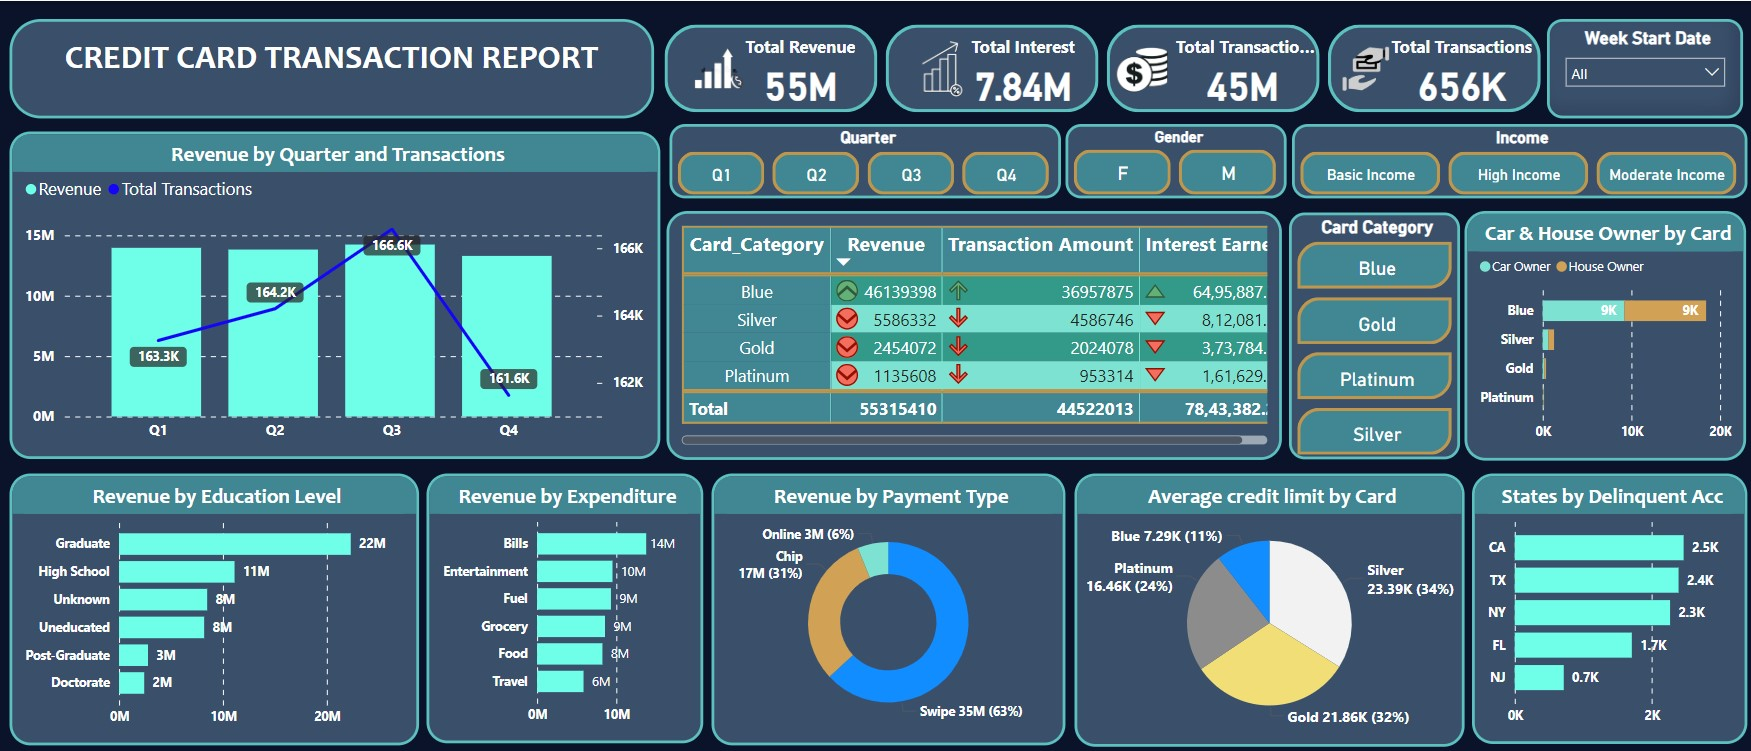

What the dashboard file says about the page in this screenshot:
{"tool":"powerbi","page":{"name":"Credit Card Transaction Report","canvas":[1680,720],"ordinal":1},"visuals":[{"type":"textbox","box":[10.3,16.5,618.1,95],"z":0},{"type":"lineStackedColumnComboChart","title":"Revenue by Quarter and Transactions","fields":{"Category":["credit_card cc_detail.Qtr"],"Y":["Sum(credit_card cc_detail.Revenue)"],"Y2":["Sum(credit_card cc_detail.Total_Trans_Vol)"]},"box":[10.3,125.5,624.3,314.2],"z":1000},{"type":"barChart","title":"Revenue by Expenditure ","fields":{"Y":["Sum(credit_card cc_detail.Revenue)"],"Category":["credit_card cc_detail.Exp_Type"]},"box":[410.5,452.7,265,258.8],"z":2000},{"type":"barChart","title":"Revenue by Education Level","fields":{"Y":["Sum(credit_card cc_detail.Revenue)"],"Category":["credit_card cust_detail.Education_Level"]},"box":[10.1,452.7,392.4,260.5],"z":3000},{"type":"pieChart","title":"Average credit limit by Card","fields":{"Category":["credit_card cc_detail.Card_Category"],"Y":["Avg(credit_card cc_detail.Credit_Limit)"]},"box":[1030.5,452.7,373.8,262.1],"z":4000},{"type":"donutChart","title":"Revenue by Payment Type","fields":{"Category":["credit_card cc_detail.Use_Chip"],"Y":["Sum(credit_card cc_detail.Revenue)"]},"box":[683.5,452.7,339,260.5],"z":5000},{"type":"tableEx","fields":{"Values":["credit_card cc_detail.Card_Category","Sum(credit_card cc_detail.Revenue)","Sum(credit_card cc_detail.Total_Trans_Amt)","Sum(credit_card cc_detail.Interest_Earned)"]},"box":[640.2,201.3,590.3,238.5],"z":6000},{"type":"slicer","title":"Week Start Date","fields":{"Values":["credit_card cc_detail.Week_Start_Date"]},"box":[1484.3,16.5,188.1,95.1],"z":7000},{"type":"advancedSlicerVisual","title":"Quarter","fields":{"Values":["credit_card cc_detail.Qtr"]},"box":[642.7,118,375.5,71],"z":8000},{"type":"advancedSlicerVisual","title":"Card Category","fields":{"Values":["credit_card cc_detail.Card_Category"]},"box":[1236.3,203,164.1,236.8],"z":9000},{"type":"advancedSlicerVisual","title":"Income","fields":{"Values":["credit_card cust_detail.IncomeGroup"]},"box":[1239.7,118,436.4,71],"z":10000},{"type":"barChart","title":"States by Delinquent Acc ","fields":{"Category":["credit_card cust_detail.State_cd"],"Y":["CountNonNull(credit_card cc_detail.Delinquent_Acc)"]},"box":[1411.6,453.3,263.8,259],"z":11000},{"type":"barChart","title":" Car & House Owner by Card","fields":{"Y":["CountNonNull(credit_card cust_detail.Car_Owner)","CountNonNull(credit_card cust_detail.House_Owner)"],"Category":["credit_card cc_detail.Card_Category"]},"box":[1405.5,200.7,270,239],"z":12000},{"type":"advancedSlicerVisual","title":"Gender","fields":{"Values":["credit_card cust_detail.Gender"]},"box":[1021.9,118,211.9,71],"z":13000},{"type":"cardVisual","fields":{"Data":["Sum(credit_card cc_detail.Revenue)","Sum(credit_card cc_detail.Interest_Earned)","Sum(credit_card cc_detail.Total_Trans_Amt)","Sum(credit_card cc_detail.Total_Trans_Vol)"]},"box":[633,16.9,850.7,94.7],"z":14000}]}

Visuals, with their boxes in screenshot pixels (x1, y1, x2, y2), scaled from the page's 1680x720 canvas onto the 1751x751 screenshot:
textbox: {"x1": 11, "y1": 17, "x2": 655, "y2": 116}
"Revenue by Quarter and Transactions" lineStackedColumnComboChart: {"x1": 11, "y1": 131, "x2": 661, "y2": 459}
"Revenue by Expenditure " barChart: {"x1": 428, "y1": 472, "x2": 704, "y2": 742}
"Revenue by Education Level" barChart: {"x1": 11, "y1": 472, "x2": 420, "y2": 744}
"Average credit limit by Card" pieChart: {"x1": 1074, "y1": 472, "x2": 1464, "y2": 746}
"Revenue by Payment Type" donutChart: {"x1": 712, "y1": 472, "x2": 1066, "y2": 744}
tableEx - credit_card cc_detail.Card_Category x Sum(credit_card cc_detail.Revenue): {"x1": 667, "y1": 210, "x2": 1283, "y2": 459}
"Week Start Date" slicer: {"x1": 1547, "y1": 17, "x2": 1743, "y2": 116}
"Quarter" advancedSlicerVisual: {"x1": 670, "y1": 123, "x2": 1061, "y2": 197}
"Card Category" advancedSlicerVisual: {"x1": 1289, "y1": 212, "x2": 1460, "y2": 459}
"Income" advancedSlicerVisual: {"x1": 1292, "y1": 123, "x2": 1747, "y2": 197}
"States by Delinquent Acc " barChart: {"x1": 1471, "y1": 473, "x2": 1746, "y2": 743}
" Car & House Owner by Card" barChart: {"x1": 1465, "y1": 209, "x2": 1746, "y2": 459}
"Gender" advancedSlicerVisual: {"x1": 1065, "y1": 123, "x2": 1286, "y2": 197}
cardVisual - Sum(credit_card cc_detail.Revenue) x Sum(credit_card cc_detail.Interest_Earned): {"x1": 660, "y1": 18, "x2": 1546, "y2": 116}
